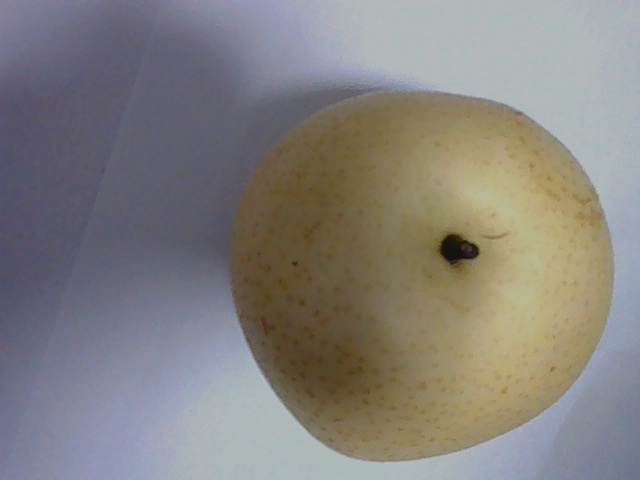pear: (235, 87, 611, 459)
